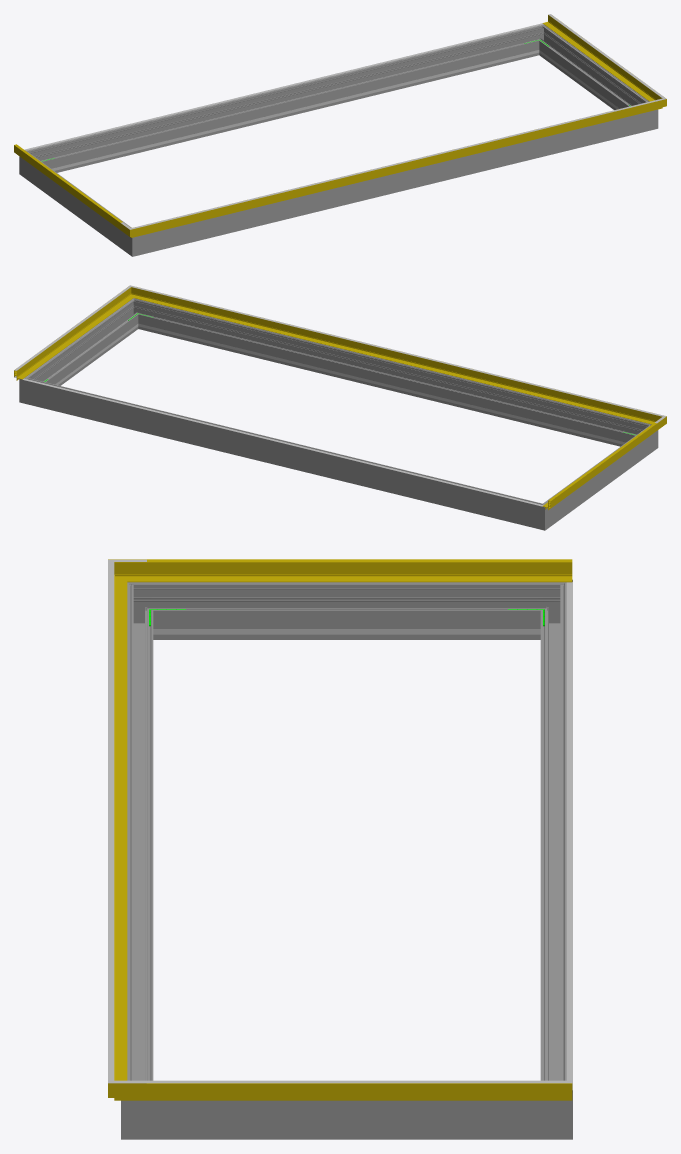
3 renders of one model, top to bottom at view 1: azimuth 30°, elevation 25°; view 2: azimuth 150°, elevation 25°; view 3: azimuth 270°, elevation 25°, orthographic. The views are drawn at different scales.
Parts seen in each view (by area): view 1: 3DGeom-276, 3DGeom-298, 3DGeom-56, 3DGeom-297, 3DGeom-268, 3DGeom-244, 3DGeom-58, 3DGeom-220, 3DGeom-66, 3DGeom-50, 3DGeom-270, 3DGeom-284 (+1 smaller); view 2: 3DGeom-298, 3DGeom-276, 3DGeom-56, 3DGeom-297, 3DGeom-268, 3DGeom-239, 3DGeom-58, 3DGeom-220, 3DGeom-66, 3DGeom-50, 3DGeom-278, 3DGeom-284 (+1 smaller); view 3: 3DGeom-268, 3DGeom-297, 3DGeom-276, 3DGeom-298, 3DGeom-50, 3DGeom-58, 3DGeom-56, 3DGeom-220, 3DGeom-66, 3DGeom-232, 3DGeom-64, 3DGeom-284 (+4 smaller).
Part boxes in pixels (<box>): 3DGeom-276: <box>37,28,536,172</box>; 3DGeom-298: <box>149,113,641,252</box>; 3DGeom-56: <box>145,103,650,234</box>; 3DGeom-297: <box>541,30,645,109</box>; 3DGeom-268: <box>29,156,127,249</box>; 3DGeom-244: <box>57,54,522,169</box>; 3DGeom-58: <box>542,15,654,100</box>; 3DGeom-220: <box>24,23,543,150</box>; 3DGeom-66: <box>145,102,649,225</box>; 3DGeom-50: <box>14,145,120,229</box>; 3DGeom-270: <box>122,225,149,256</box>; 3DGeom-284: <box>530,24,551,56</box>; 3DGeom-298: <box>141,301,639,446</box>; 3DGeom-276: <box>36,381,531,526</box>; 3DGeom-56: <box>142,290,648,422</box>; 3DGeom-297: <box>32,304,136,385</box>; 3DGeom-268: <box>549,430,648,523</box>; 3DGeom-239: <box>154,327,619,443</box>; 3DGeom-58: <box>14,293,128,380</box>; 3DGeom-220: <box>22,378,543,506</box>; 3DGeom-66: <box>145,289,649,413</box>; 3DGeom-50: <box>542,423,657,510</box>; 3DGeom-278: <box>528,499,554,530</box>; 3DGeom-284: <box>19,372,38,406</box>; 3DGeom-268: <box>159,582,534,639</box>; 3DGeom-297: <box>159,1100,534,1139</box>; 3DGeom-276: <box>540,596,566,1080</box>; 3DGeom-298: <box>127,596,153,1080</box>; 3DGeom-50: <box>146,559,572,582</box>; 3DGeom-58: <box>146,1083,572,1100</box>; 3DGeom-56: <box>114,588,127,1080</box>; 3DGeom-220: <box>566,582,572,1090</box>; 3DGeom-66: <box>108,576,114,1066</box>; 3DGeom-232: <box>190,629,503,634</box>; 3DGeom-64: <box>147,1080,572,1083</box>; 3DGeom-284: <box>534,1076,572,1139</box>.
Bounding box in the file's own units: 4.88 × 0.2669 × 1.83.
